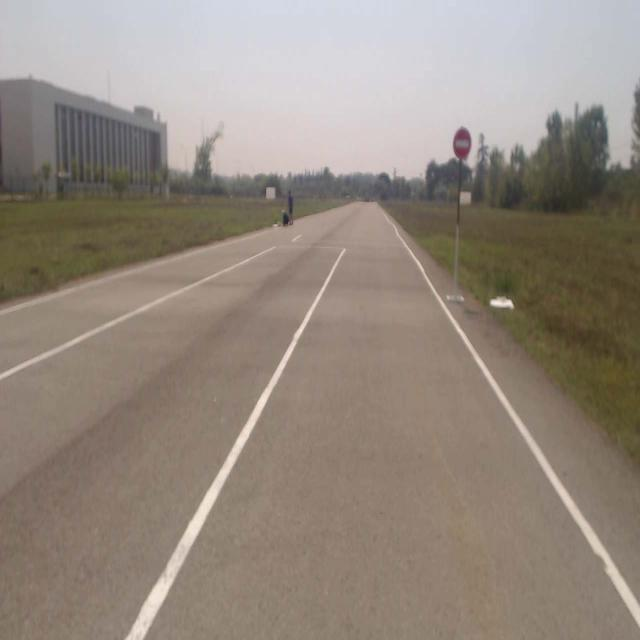girisyok: (453, 126, 471, 158)
